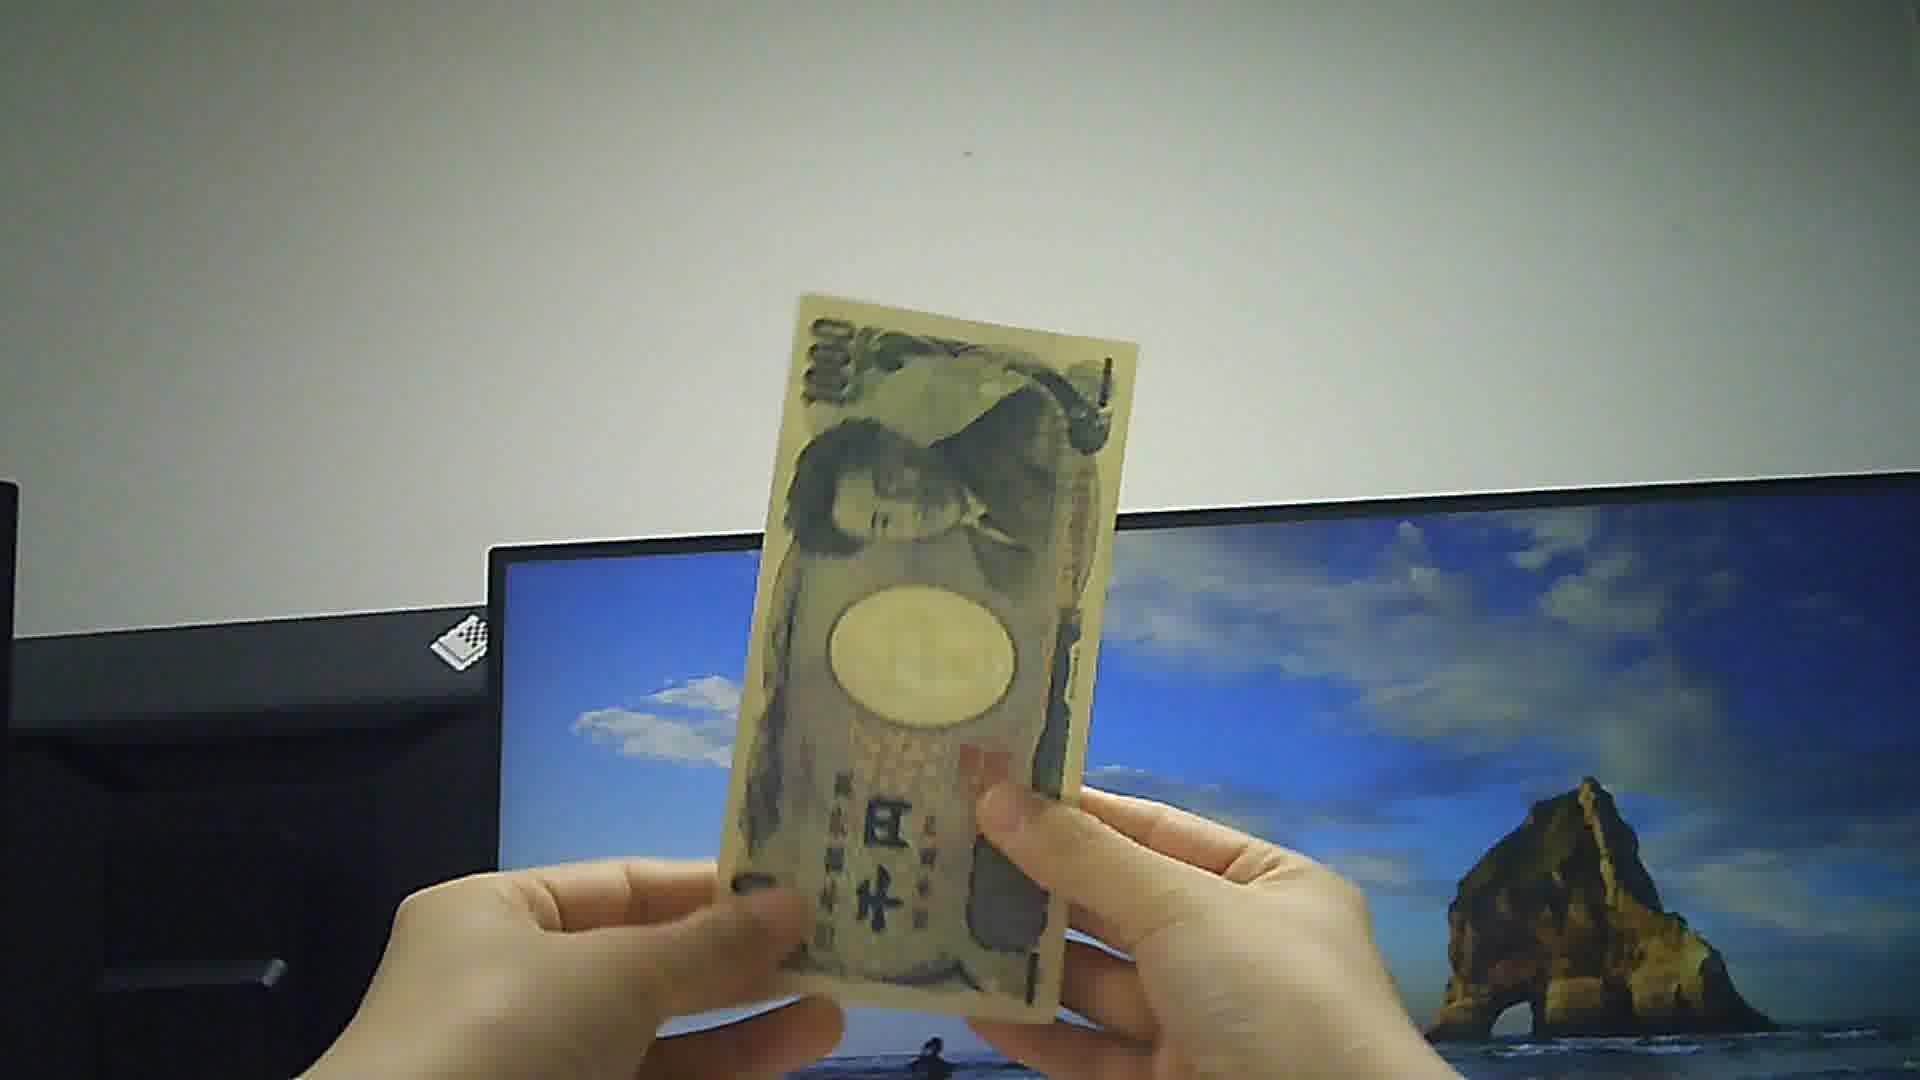1,000 Yen: (708, 270, 1131, 1046)
